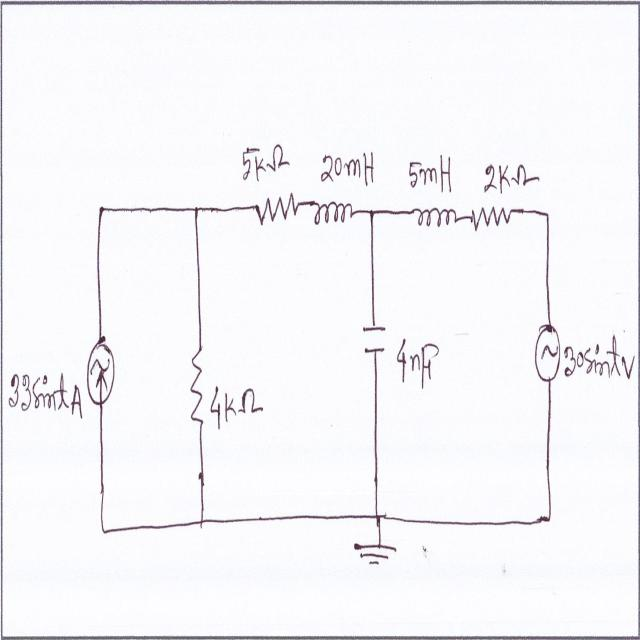ac_current: (534, 323, 562, 383)
capacitor: (359, 318, 387, 358)
current_source: (86, 326, 116, 410)
ground: (352, 530, 399, 568)
inductor: (409, 200, 460, 239), (312, 193, 354, 235)
resistor: (253, 189, 303, 228), (190, 339, 210, 431), (468, 198, 512, 232)
